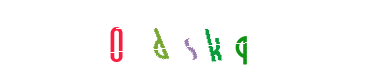0: (76, 0, 156, 80)
D: (132, 0, 212, 80)
K: (147, 0, 227, 80)
Q: (187, 0, 267, 80)
S: (137, 0, 217, 80)
